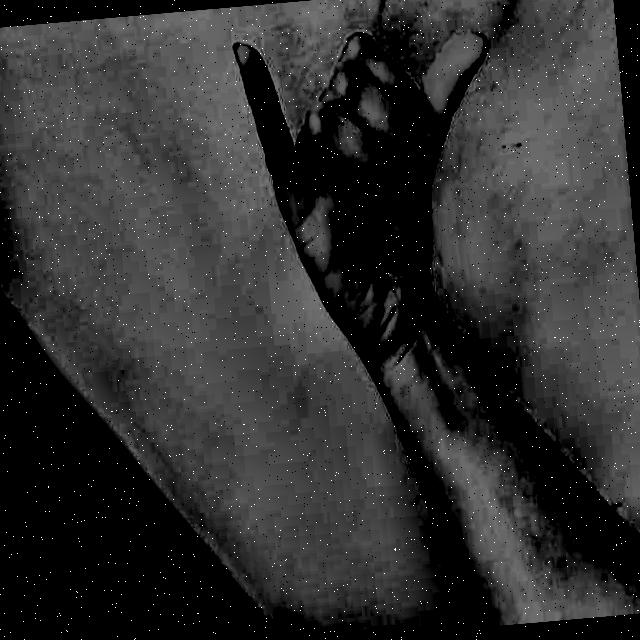Oi: (211, 0, 530, 401)
